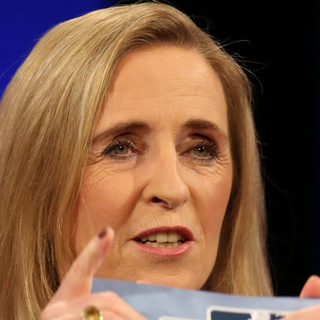eye: (90, 132, 152, 167), (172, 130, 225, 169)
